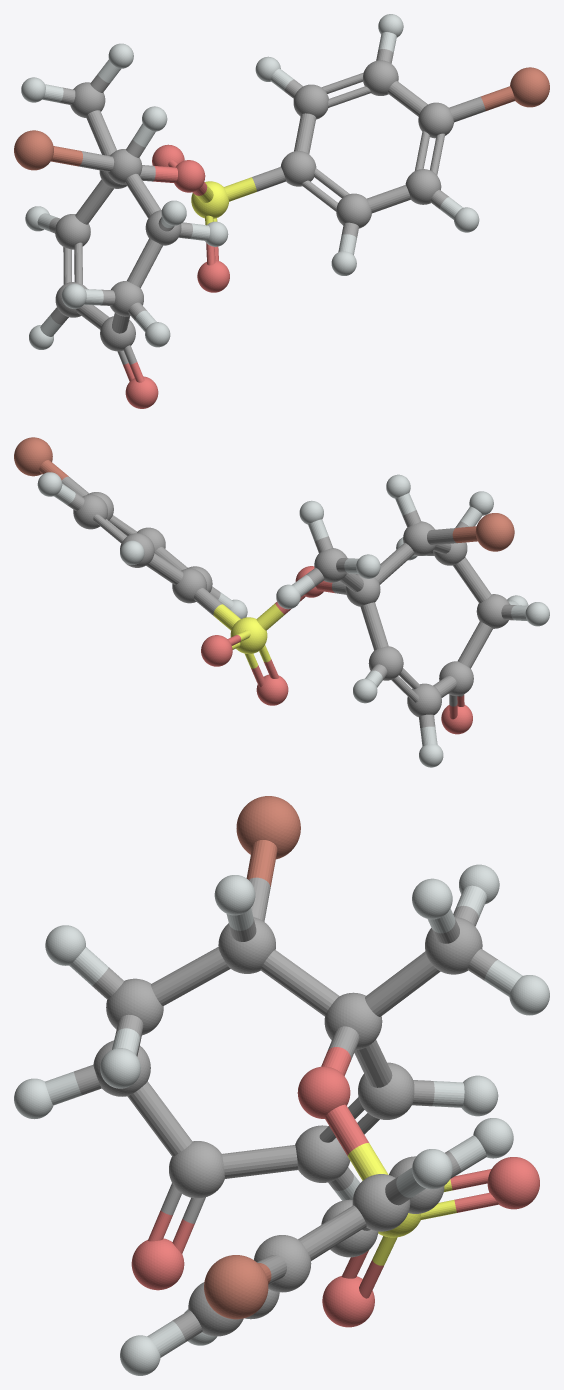
The model's file is molecula.glb.
The picture shows the model from 3 angles, top to bottom: view 1: azimuth 30°, elevation 25°; view 2: azimuth 150°, elevation 25°; view 3: azimuth 270°, elevation 25°; orthographic projection. The views are drawn at different scales.
Size of the model in its own units: 11.4 by 5.96 by 6.32.
